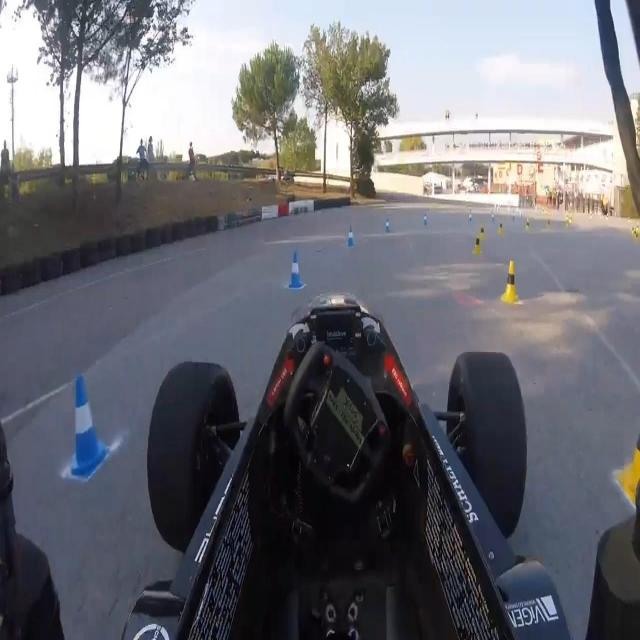blue_cone: (54, 367, 113, 481), (286, 247, 303, 292), (347, 226, 354, 249), (384, 216, 392, 234), (467, 210, 475, 224), (422, 212, 428, 225), (490, 212, 496, 224), (511, 210, 516, 222)
yellow_cone: (613, 416, 640, 515), (500, 258, 520, 308), (471, 233, 483, 256), (479, 223, 486, 239), (498, 222, 505, 236), (569, 213, 574, 223), (565, 219, 570, 229), (636, 222, 640, 234), (547, 219, 551, 231), (635, 233, 640, 242), (526, 219, 530, 230), (566, 212, 569, 220), (632, 225, 634, 235), (634, 228, 636, 236)
